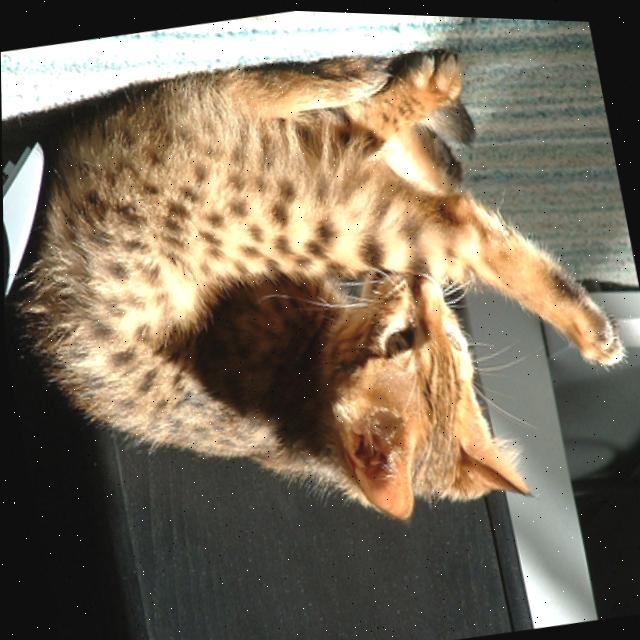Bengal: (0, 0, 640, 599)
